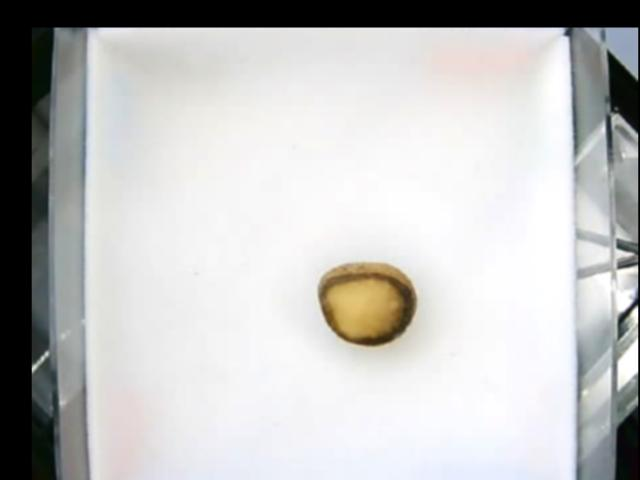Potato: (316, 258, 415, 348)
